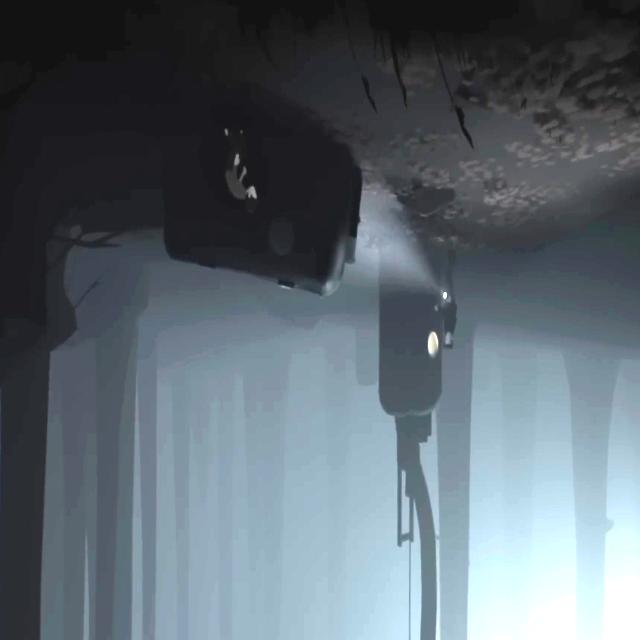boy: (224, 128, 257, 211)
human: (434, 246, 457, 350)
